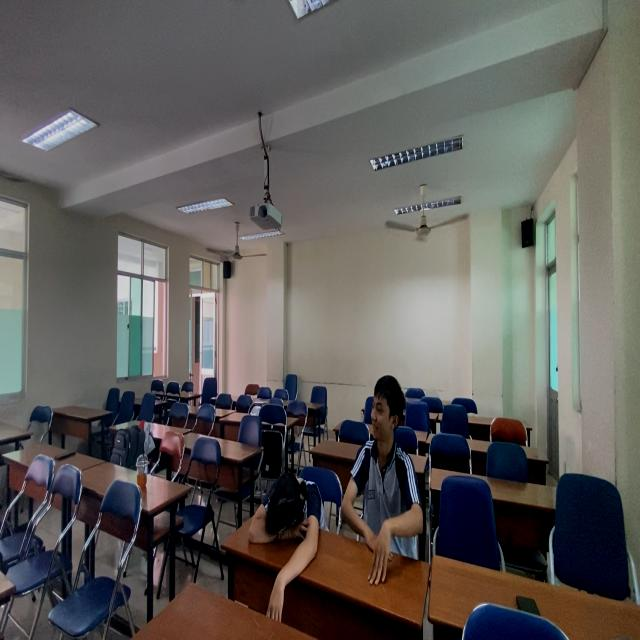sleep: (244, 459, 330, 582)
